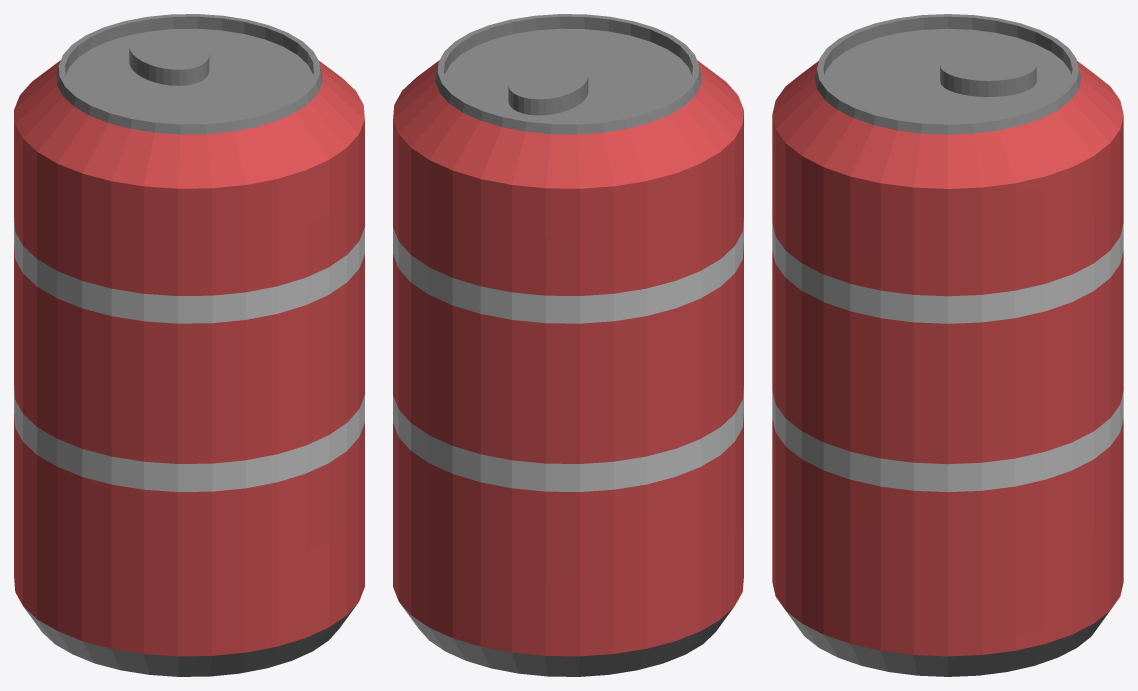
The model's file is soda.fbx.
The picture shows the model from 3 angles, left to right: view 1: azimuth 30°, elevation 25°; view 2: azimuth 150°, elevation 25°; view 3: azimuth 270°, elevation 25°; orthographic projection.
Parts seen in each view (by area): view 1: Cylinder.001; view 2: Cylinder.001; view 3: Cylinder.001.
Part boxes in pixels (x1,y1,x2,y2): Cylinder.001: (14,14,364,676); Cylinder.001: (393,14,743,676); Cylinder.001: (772,14,1123,676).
Bounding box in the file's own units: 200 × 343 × 200.
